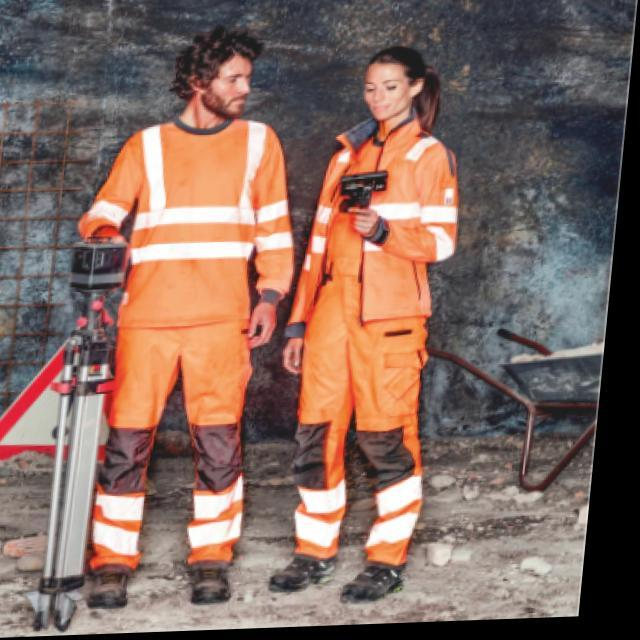boots: (69, 546, 244, 614), (260, 545, 415, 609)
vest: (71, 109, 312, 327), (291, 103, 481, 330)
